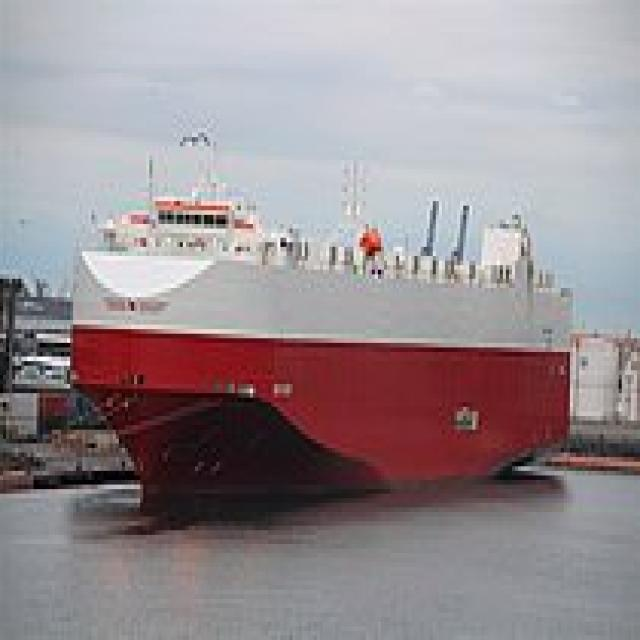Carrier: (64, 155, 573, 535)
